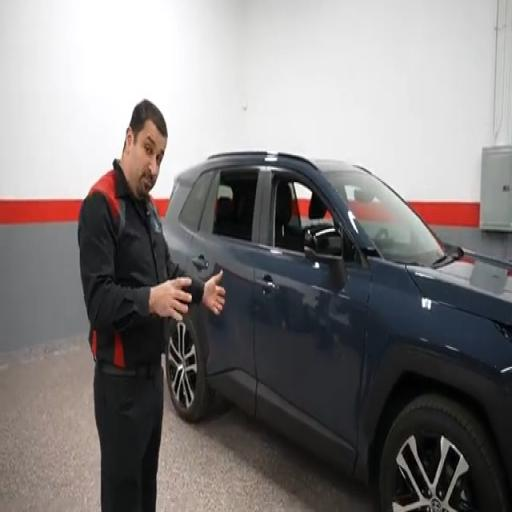door: (255, 170, 370, 449), (189, 167, 259, 405)
hood: (408, 252, 511, 325)
side_mirror: (304, 227, 343, 263)
tire: (379, 394, 510, 511), (165, 315, 213, 422)
wheel: (379, 396, 510, 511), (166, 316, 212, 422)
window: (269, 174, 334, 253), (202, 170, 258, 241), (179, 173, 213, 231)
windshield: (324, 171, 444, 265)
